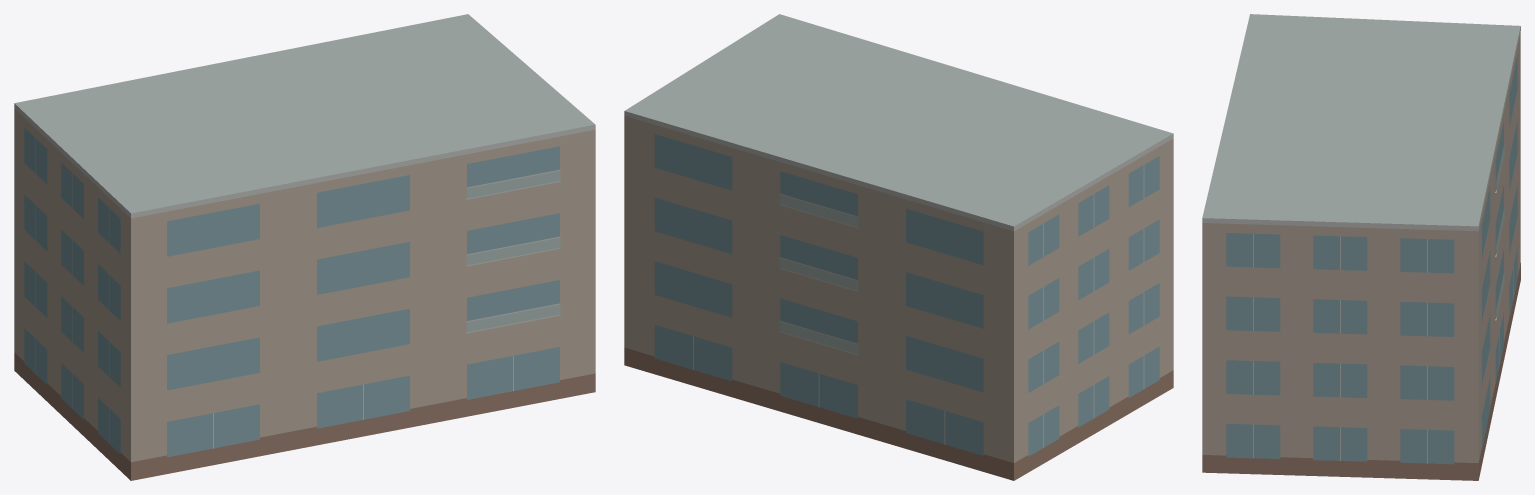
File: survey-upis-32773397.glb
The picture shows the model from 3 angles, left to right: view 1: azimuth 30°, elevation 25°; view 2: azimuth 150°, elevation 25°; view 3: azimuth 270°, elevation 25°; orthographic projection. The views are drawn at different scales.
Parts seen in each view (by area): view 1: survey-upis-32773397.tmp; view 2: survey-upis-32773397.tmp; view 3: survey-upis-32773397.tmp.
Part boxes in pixels (x1,y1,x2,y2): survey-upis-32773397.tmp: (14, 14, 595, 480); survey-upis-32773397.tmp: (624, 14, 1173, 480); survey-upis-32773397.tmp: (1202, 14, 1520, 480).
Bounding box in the file's own units: 22.92 × 12.8 × 14.53.
